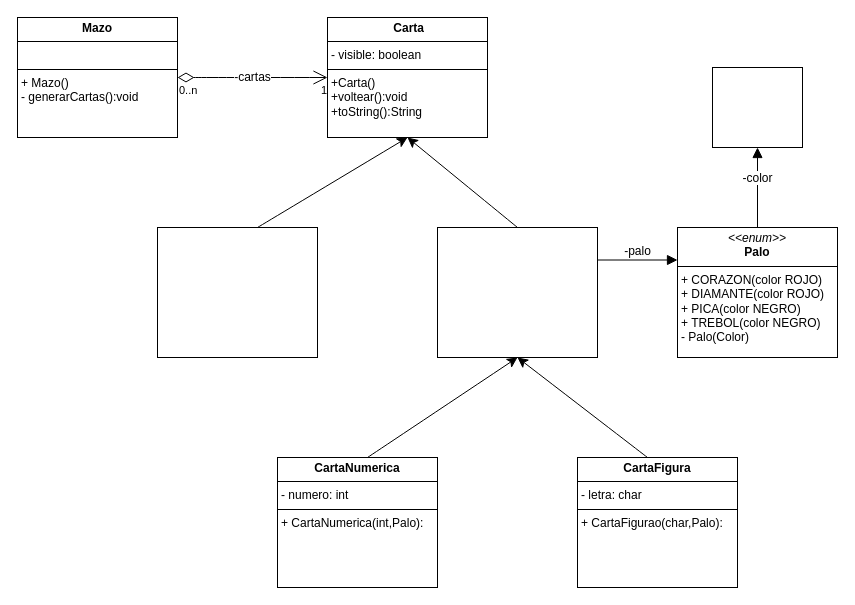
Image size: 855x605. Some labels were removed from this diagram. The shapes that lost their labels are listed below. From the top down, each one's centre as x and y in pixels, then its label:
At (757,107): "<<enum>> Color + ROJO + NEGRO".
At (237,292): "Comodin - coloreado: boolean + Comodin(boolean)".
At (517,292): "CartaPalo + field: Type + CartaPalo(Palo):".
